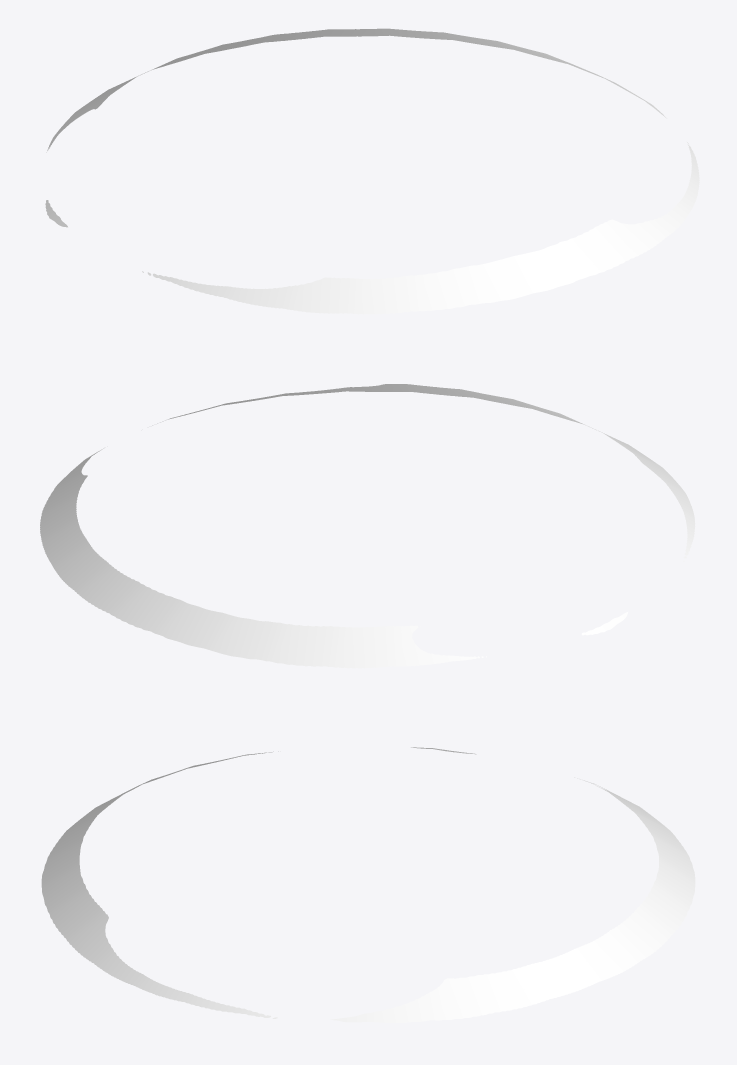
File: eff_light_08.FBX
The picture shows the model from 3 angles, top to bottom: view 1: azimuth 30°, elevation 25°; view 2: azimuth 150°, elevation 25°; view 3: azimuth 270°, elevation 25°; orthographic projection.
Parts seen in each view (by area): view 1: eff_light_08; view 2: eff_light_08; view 3: eff_light_08.
Part boxes in pixels (x1,y1,x2,y2): eff_light_08: (45,28,699,314); eff_light_08: (40,384,695,668); eff_light_08: (41,747,695,1022).
Bounding box in the file's own units: 318 × 41.57 × 318.
1 material, 1 textured.
